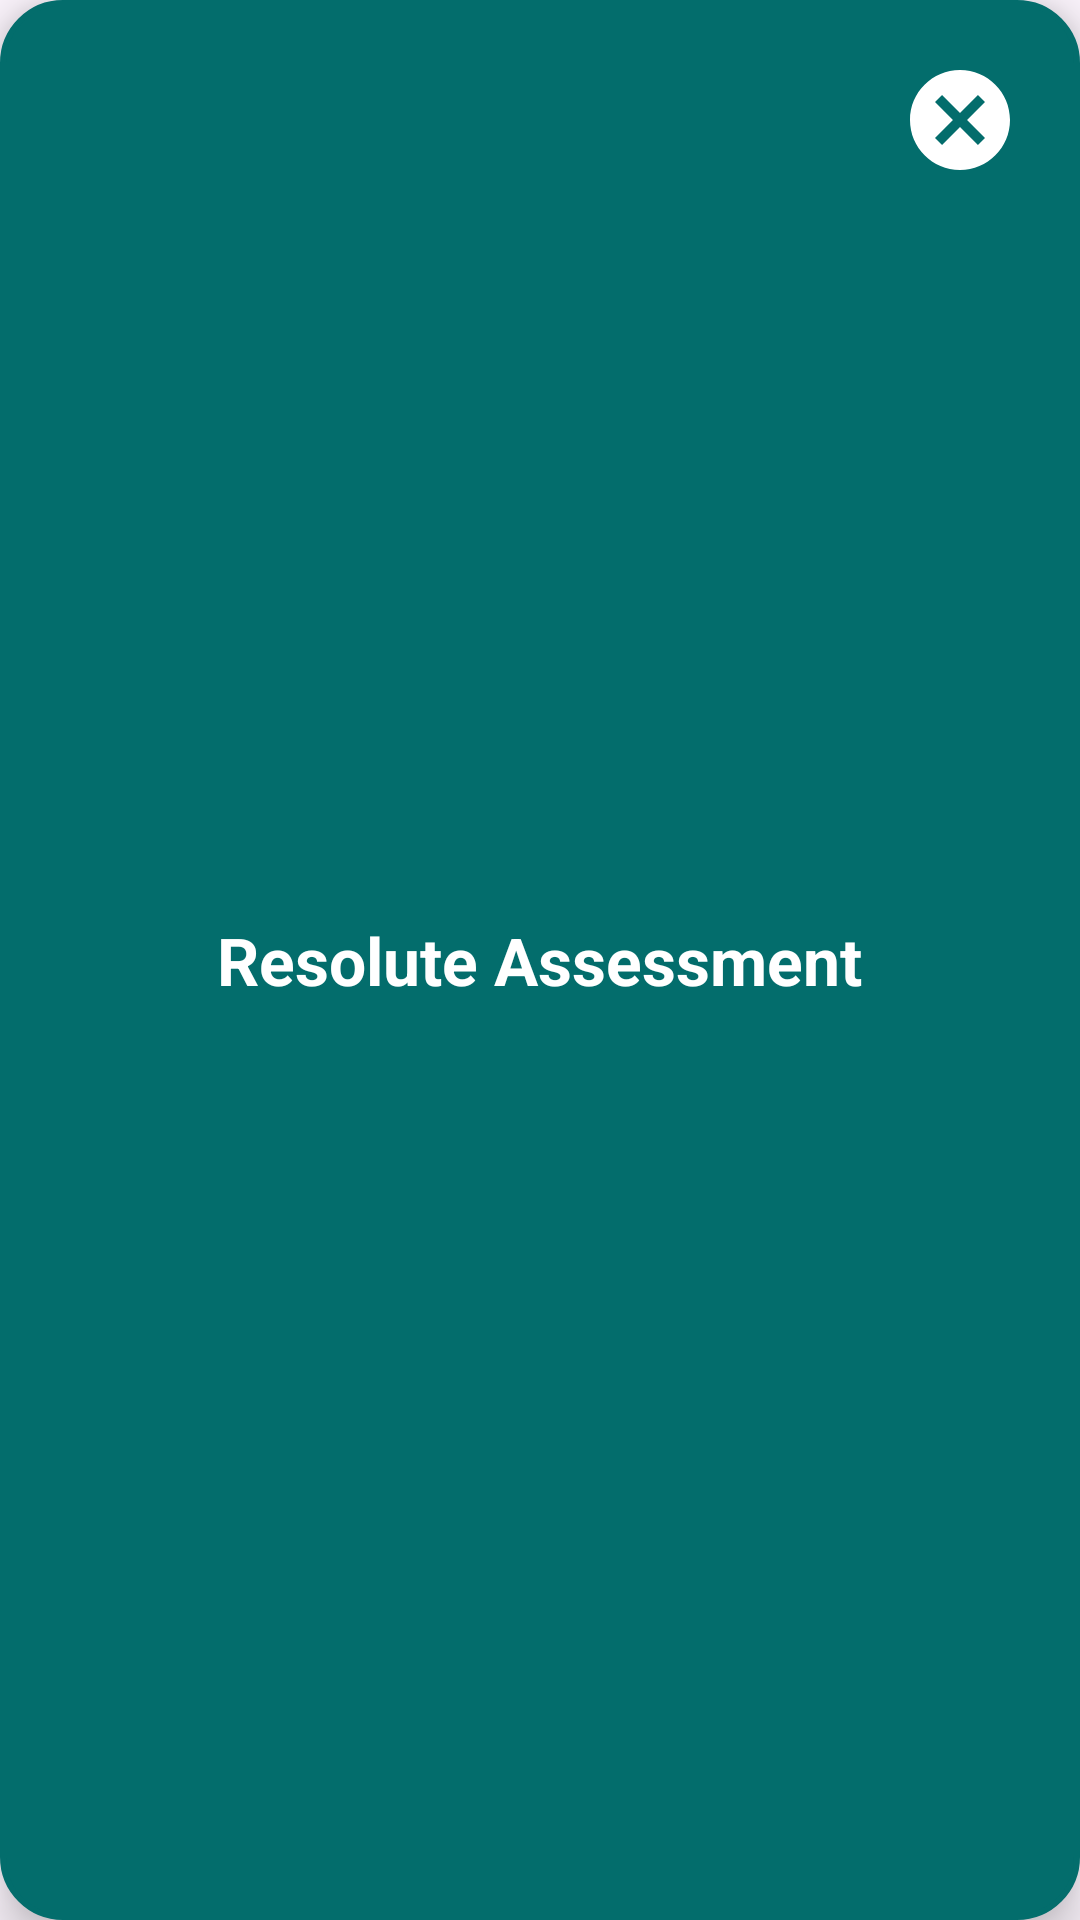

Point at icon controls on the screen. Image size 1080 x 1920, points as point (x, y).
cancel: point (960, 120)
